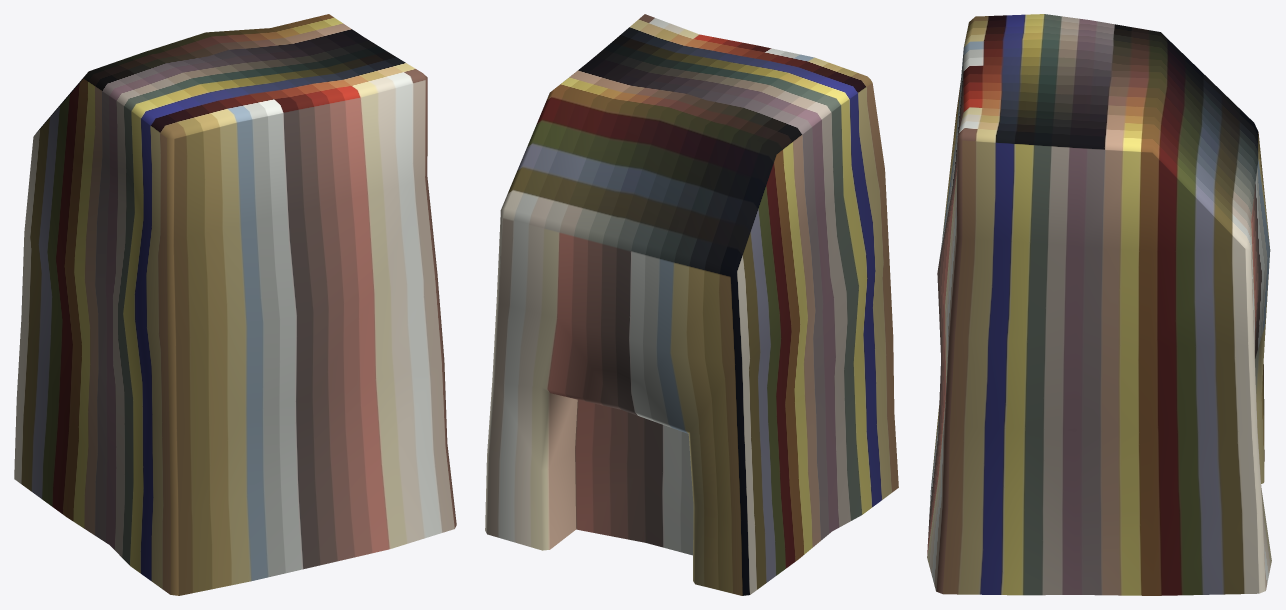
Rendered from MSH_Building_Hole_004.glb.
3 renders of one model, left to right at view 1: azimuth 30°, elevation 25°; view 2: azimuth 150°, elevation 25°; view 3: azimuth 270°, elevation 25°, orthographic. The views are drawn at different scales.
Parts seen in each view (by area): view 1: Base.017; view 2: Base.017; view 3: Base.017.
Boxes of the visible parts, bbox=[...] form: Base.017: bbox=[14, 14, 456, 595]; Base.017: bbox=[485, 14, 898, 595]; Base.017: bbox=[927, 14, 1271, 595].
Bounding box in the file's own units: 5.33 × 7.94 × 5.47.
1 material, 1 textured.
